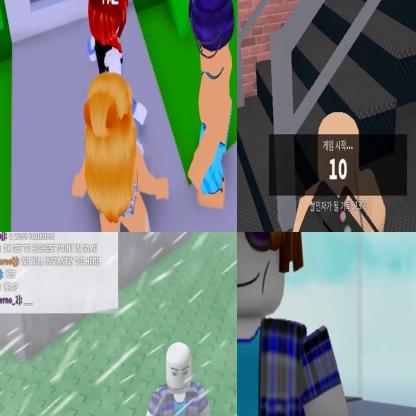Roblox-Avatar: (238, 233, 359, 416), (72, 72, 170, 232), (274, 112, 400, 232), (188, 1, 236, 211), (143, 342, 218, 416)
